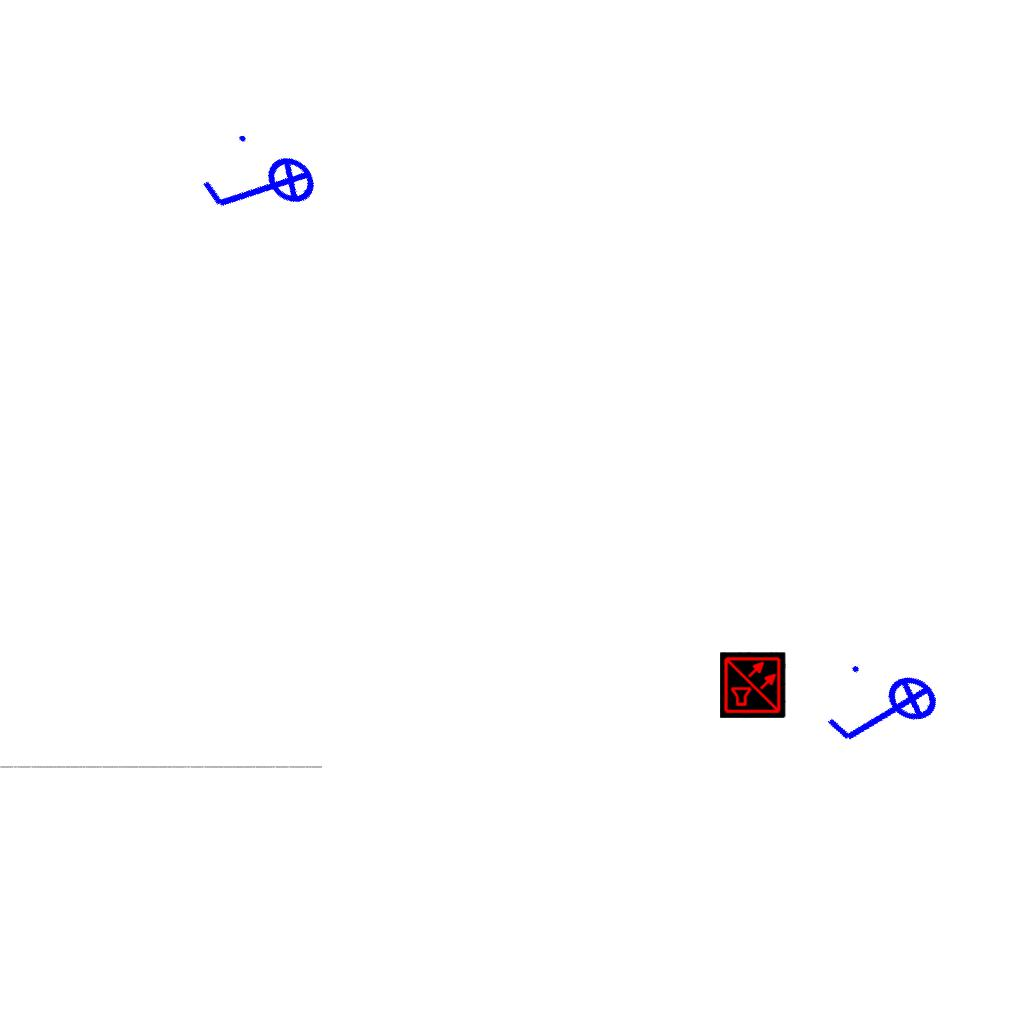Ausschalter_beleuchtet: (187, 116, 335, 262), (813, 645, 957, 783)
OKW_Multisensormelder_(Kombination_optischer_Rauch-Kahlenmonoxid_Waerme-Melder): (720, 652, 786, 718)
